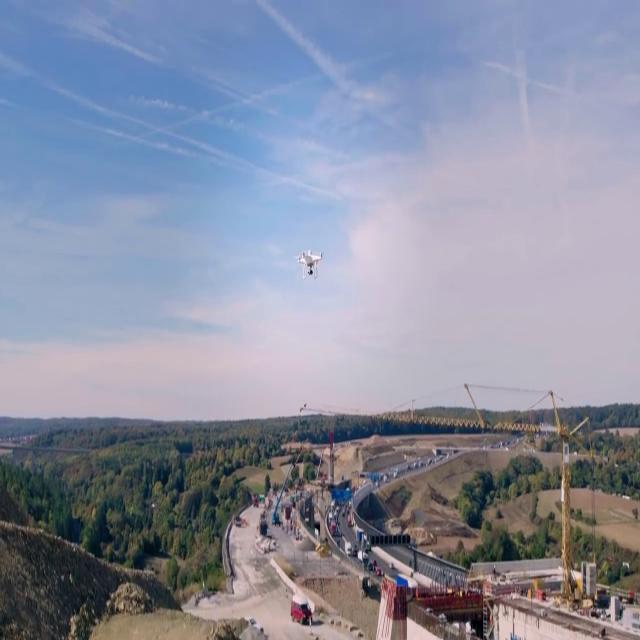drone: (294, 246, 326, 280)
